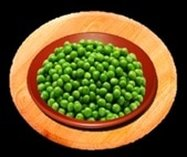boiled peas: (57, 49, 132, 106)
